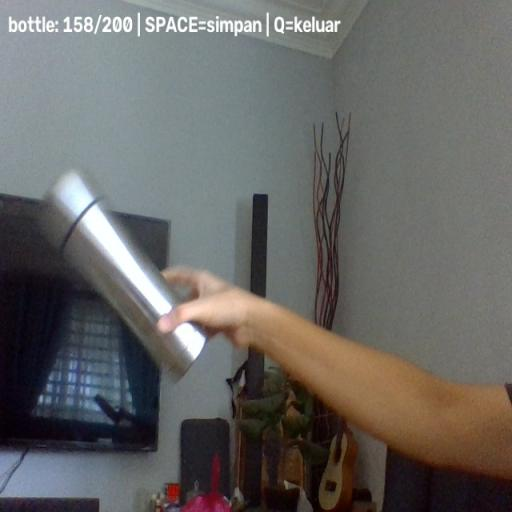Bottle: (42, 168, 210, 376)
